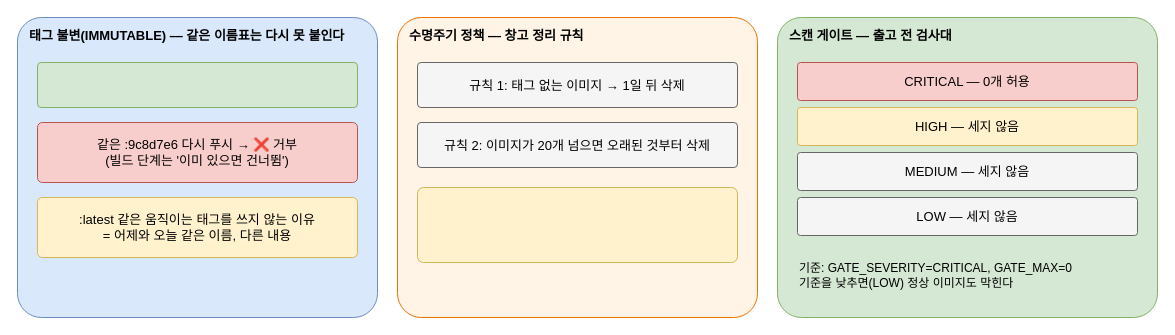
The diagram is 1175 pixels wide and 335 high, and some of its shapes have lost their labels. The centre of each missing label's shape, as x and y in pixels:
주의: 운영이 쓰는 옛 태그도 '오래됐다'는 이유로 지워질 수 있다 → 미리보기(lifecycle preview)로 확인: the point at 577,224
푸시 :9c8d7e6 → ✅: the point at 197,85
